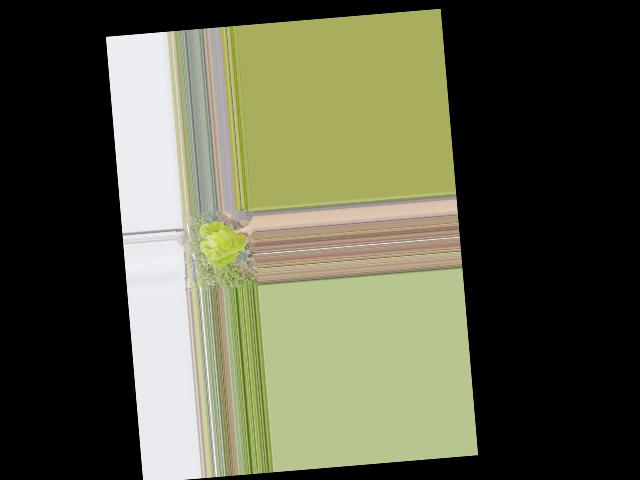lettuce: (197, 216, 253, 270)
